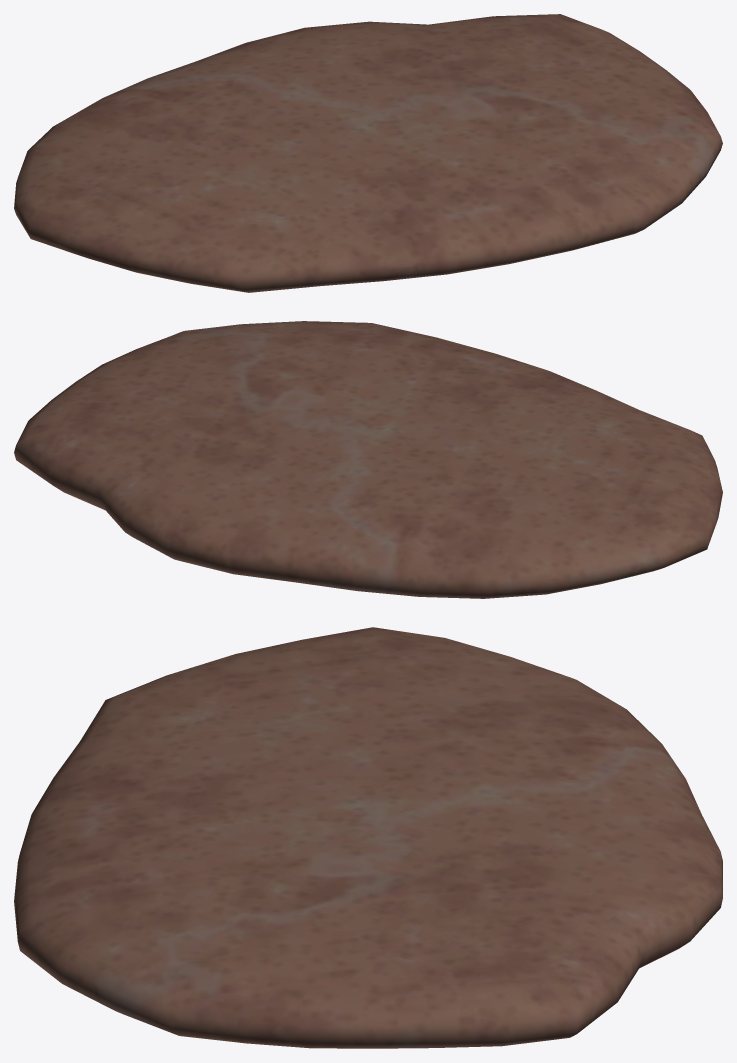
The model's file is small_wafer_02.glb.
The picture shows the model from 3 angles, top to bottom: view 1: azimuth 30°, elevation 25°; view 2: azimuth 150°, elevation 25°; view 3: azimuth 270°, elevation 25°; orthographic projection. The views are drawn at different scales.
Visible parts, largest first — view 1: small_wafer_02; view 2: small_wafer_02; view 3: small_wafer_02.
Boxes of the visible parts, <box> form: small_wafer_02: <box>14,14,722,292</box>; small_wafer_02: <box>14,321,722,598</box>; small_wafer_02: <box>14,627,722,1048</box>.
Bounding box in the file's own units: 0.0574 × 0.00567 × 0.0431.
Materials: 1 (1 with a texture image).
